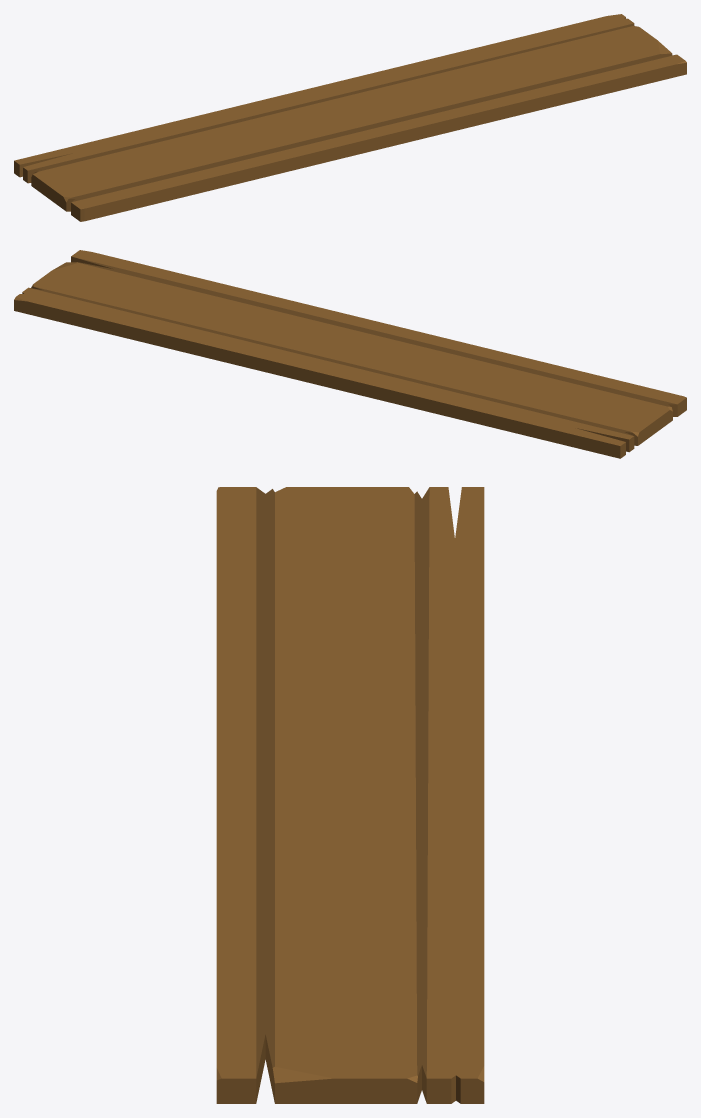
Rendered from wood plank.fbx.
3 renders of one model, top to bottom at view 1: azimuth 30°, elevation 25°; view 2: azimuth 150°, elevation 25°; view 3: azimuth 270°, elevation 25°, orthographic. The views are drawn at different scales.
Visible parts, largest first — view 1: Cube; view 2: Cube; view 3: Cube.
Part boxes in pixels (x1,y1,x2,y2): Cube: (14,14,686,221); Cube: (14,250,686,458); Cube: (216,487,484,1103).
Size of the model in its own units: 982 by 19.63 by 188.
